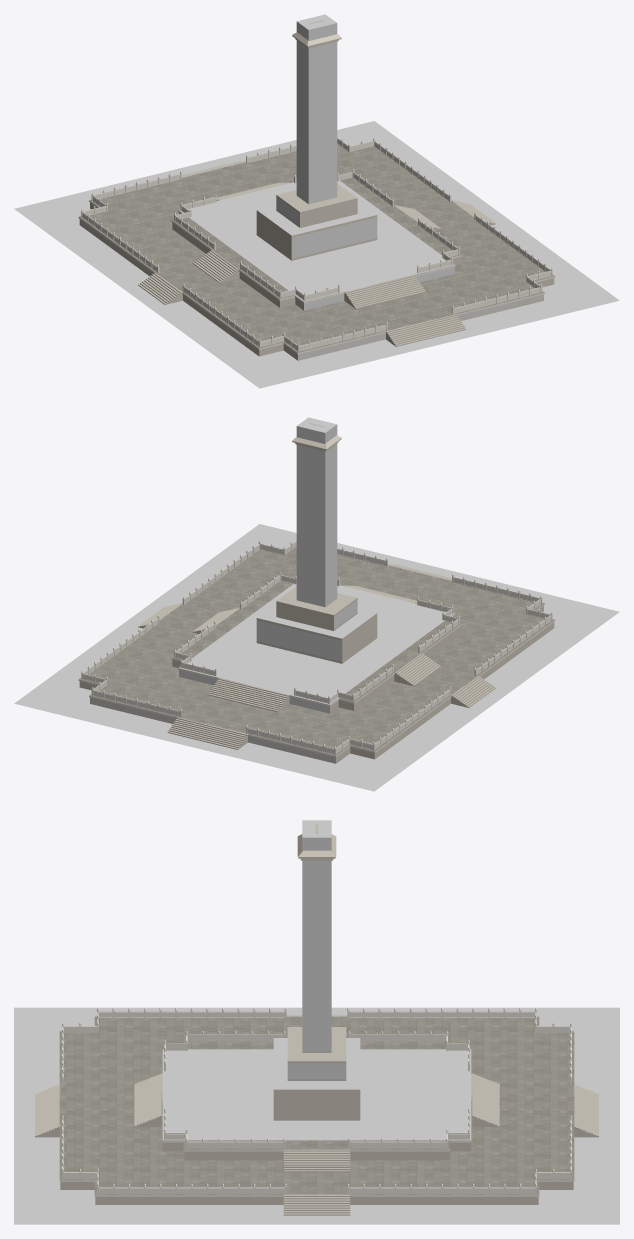
The model's file is monument.glb.
The picture shows the model from 3 angles, top to bottom: view 1: azimuth 30°, elevation 25°; view 2: azimuth 150°, elevation 25°; view 3: azimuth 270°, elevation 25°; orthographic projection. The views are drawn at different scales.
Parts seen in each view (by area): view 1: Monument, CLEAR_monument, COL_tier1b, COL_shaft, FOOTPRINT_monument, Massing, COL_big, COL_tier0b; view 2: Monument, CLEAR_monument, COL_tier1b, COL_shaft, FOOTPRINT_monument, Massing, COL_big, COL_tier0b; view 3: Monument, CLEAR_monument, COL_tier1b, FOOTPRINT_monument, COL_shaft, Massing, COL_big, COL_small.
Part boxes in pixels (bbox=[...]): Monument: bbox=[78, 20, 555, 360]; CLEAR_monument: bbox=[14, 121, 619, 388]; COL_tier1b: bbox=[179, 181, 454, 310]; COL_shaft: bbox=[296, 14, 337, 204]; FOOTPRINT_monument: bbox=[33, 129, 535, 380]; Massing: bbox=[172, 183, 554, 360]; COL_big: bbox=[257, 201, 377, 258]; COL_tier0b: bbox=[298, 294, 543, 360]; Monument: bbox=[78, 423, 555, 763]; CLEAR_monument: bbox=[14, 524, 619, 791]; COL_tier1b: bbox=[179, 584, 454, 713]; COL_shaft: bbox=[296, 417, 337, 607]; FOOTPRINT_monument: bbox=[123, 532, 600, 783]; Massing: bbox=[79, 586, 461, 763]; COL_big: bbox=[256, 604, 376, 661]; COL_tier0b: bbox=[90, 698, 335, 763]; Monument: bbox=[35, 824, 598, 1215]; CLEAR_monument: bbox=[14, 1007, 619, 1224]; COL_tier1b: bbox=[162, 1049, 471, 1140]; FOOTPRINT_monument: bbox=[30, 1019, 603, 1217]; COL_shaft: bbox=[302, 820, 331, 1052]; Massing: bbox=[184, 1027, 449, 1160]; COL_big: bbox=[273, 1038, 360, 1089]; COL_small: bbox=[287, 1063, 346, 1079].
Size of the model in its own units: 61.52 by 37.94 by 72.62.
6 materials, 3 textured.
